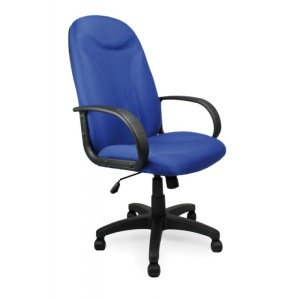chair: (66, 15, 226, 279)
